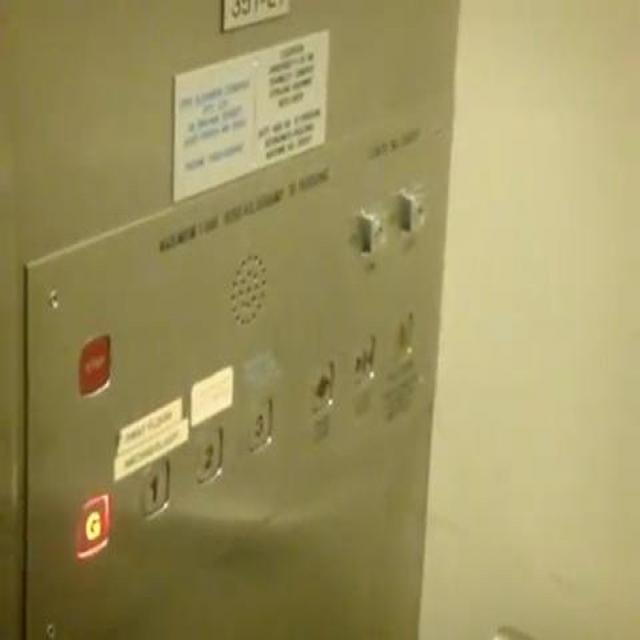1: (140, 458, 170, 518)
2: (195, 425, 224, 487)
3: (245, 394, 273, 454)
G: (77, 492, 108, 557)
blur: (77, 331, 111, 396)
close: (352, 335, 374, 389)
keyhole: (396, 180, 427, 237), (357, 202, 389, 255)
open: (309, 357, 333, 416)
